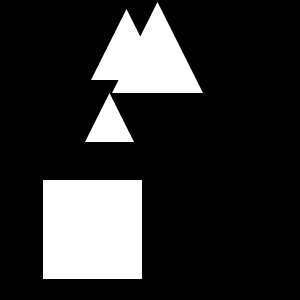circle: (43, 180, 142, 279)
rectangle: (77, 184, 138, 245)
triangle: (112, 2, 203, 93), (91, 9, 162, 80), (85, 93, 134, 142)
